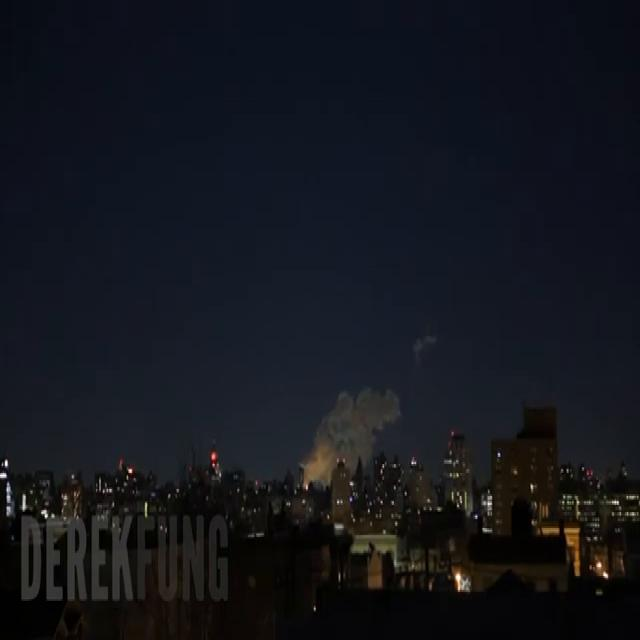smoke: (301, 388, 428, 484)
